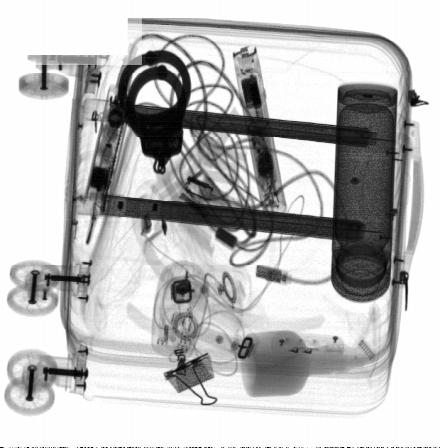Baton: (231, 44, 288, 220)
HandCuffs: (116, 50, 193, 175)
